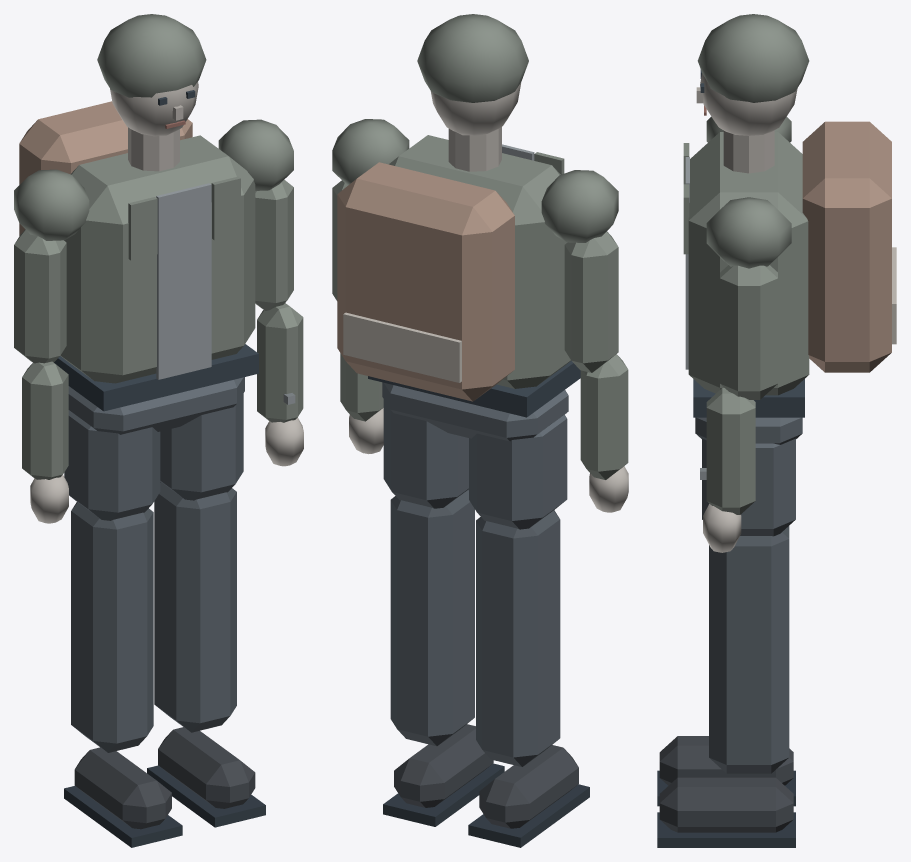
File: personaje_courier.glb
3 views of the same model, side by side, from view 1: azimuth 30°, elevation 25°; view 2: azimuth 150°, elevation 25°; view 3: azimuth 270°, elevation 25° (orthographic). The views are drawn at different scales.
Bounding box in the file's own units: 0.72 × 1.96 × 0.535.
